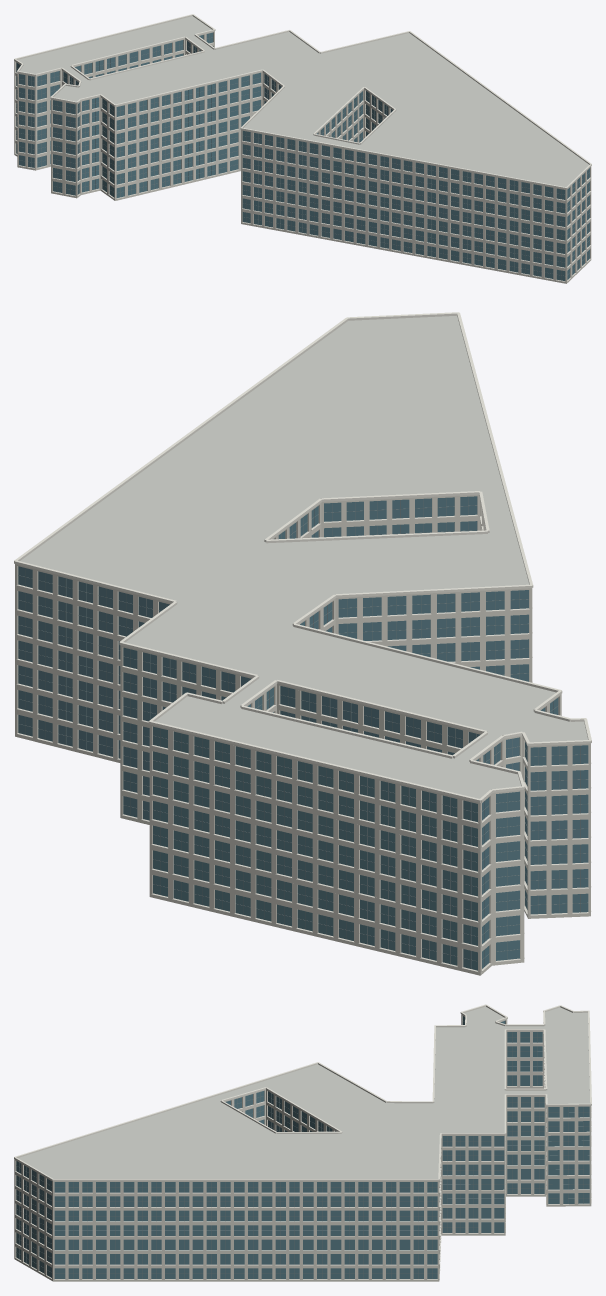
Rendered from likelou.glb.
3 renders of one model, top to bottom at view 1: azimuth 30°, elevation 25°; view 2: azimuth 150°, elevation 25°; view 3: azimuth 270°, elevation 25°, orthographic. The views are drawn at different scales.
Parts seen in each view (by area): view 1: glass, roof, wall, trim, metal; view 2: roof, glass, wall, trim, metal; view 3: roof, glass, wall, trim, metal.
Boxes of the visible parts, x1=… form: glass: x1=16, y1=32, x2=589, y2=280; roof: x1=18, y1=16, x2=588, y2=186; wall: x1=14, y1=31, x2=591, y2=283; trim: x1=14, y1=14, x2=591, y2=281; metal: x1=16, y1=33, x2=589, y2=280; roof: x1=20, y1=316, x2=587, y2=798; glass: x1=18, y1=496, x2=588, y2=970; wall: x1=15, y1=494, x2=590, y2=975; trim: x1=14, y1=312, x2=591, y2=972; metal: x1=18, y1=497, x2=587, y2=968; roof: x1=18, y1=1006, x2=589, y2=1178; glass: x1=16, y1=1016, x2=589, y2=1278; wall: x1=14, y1=1014, x2=591, y2=1281; trim: x1=14, y1=1004, x2=591, y2=1279; metal: x1=16, y1=1021, x2=589, y2=1278.
Size of the model in its own units: 115 by 31.34 by 161.
